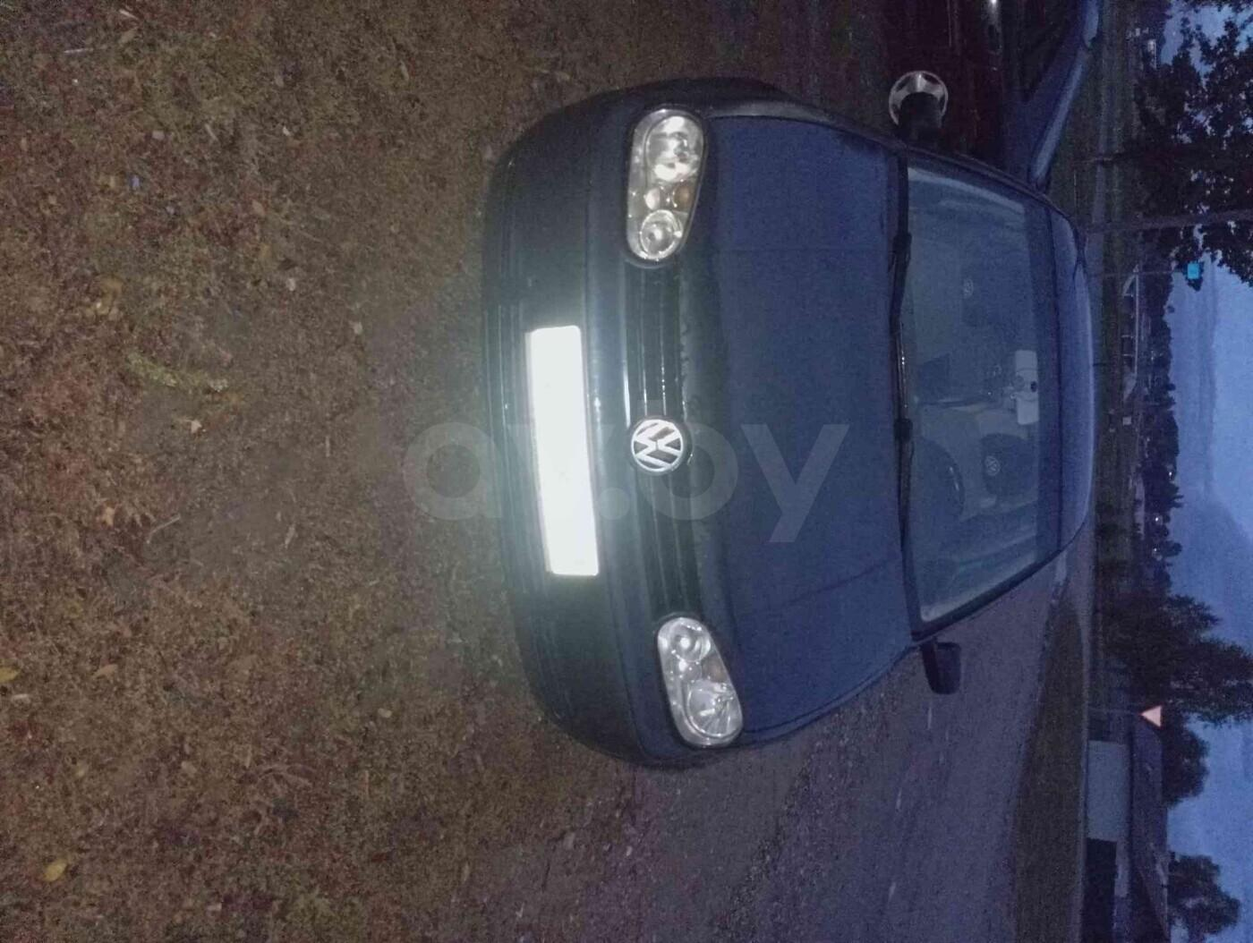Golf_1997-2006: (483, 79, 1106, 776)
